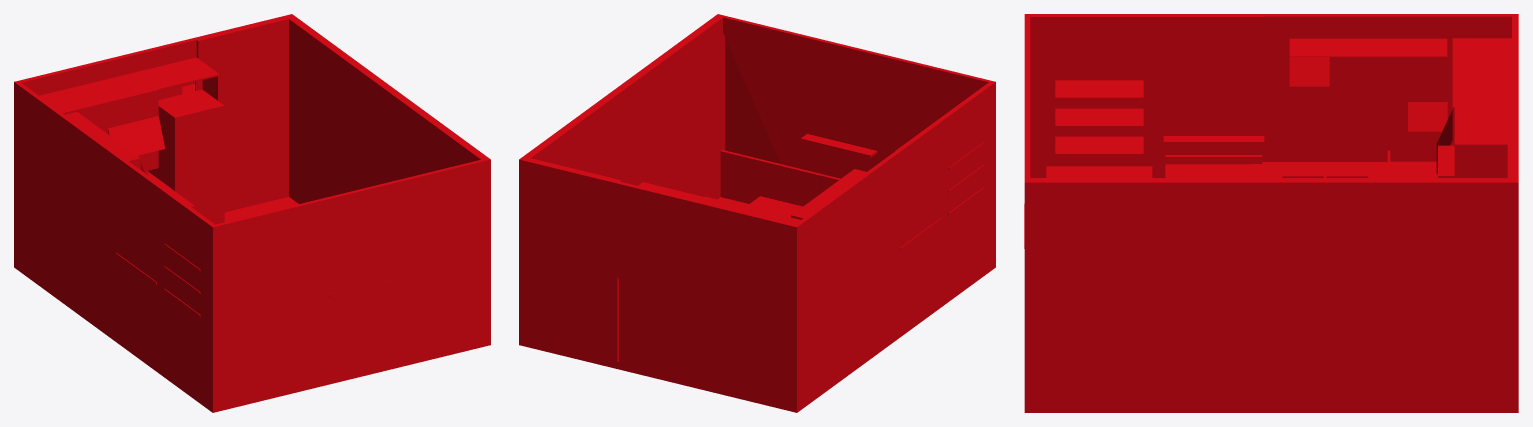
The model's file is ENV_Kitchen_01_COLLISION.fbx.
The picture shows the model from 3 angles, left to right: view 1: azimuth 30°, elevation 25°; view 2: azimuth 150°, elevation 25°; view 3: azimuth 270°, elevation 25°; orthographic projection. The views are drawn at different scales.
Visible parts, largest first — view 1: vertical_col.080, vertical_col.017, vertical_col.015, vertical_col.016, vertical_col.013, vertical_col.039, col.012, vertical_col.021, col.022, col.008, col.018, vertical_col.024 (+9 smaller); view 2: vertical_col.080, vertical_col.021, vertical_col.013, vertical_col.017, vertical_col.015, col.012, col.018, vertical_col.016, vertical_col.039, col.056, vertical_col.034, col.010 (+7 smaller); view 3: vertical_col.016, col.012, vertical_col.017, vertical_col.015, vertical_col.064, col.022, col.070, col.007, col.048, col.020, vertical_col.019, col.050 (+14 smaller).
Boxes of the visible parts, x1,y1,x2,y2 form: vertical_col.080: [210, 158, 490, 409]; vertical_col.017: [116, 156, 217, 403]; vertical_col.015: [14, 81, 120, 334]; vertical_col.016: [285, 14, 394, 203]; vertical_col.013: [194, 16, 288, 212]; vertical_col.039: [148, 84, 224, 224]; col.012: [387, 89, 490, 338]; vertical_col.021: [14, 52, 145, 268]; col.022: [39, 72, 158, 113]; col.008: [87, 313, 350, 412]; col.018: [14, 171, 172, 281]; vertical_col.024: [63, 90, 158, 129]; vertical_col.080: [716, 14, 995, 260]; vertical_col.021: [668, 196, 799, 411]; vertical_col.013: [526, 158, 621, 368]; vertical_col.017: [895, 81, 995, 329]; vertical_col.015: [792, 151, 899, 412]; col.012: [622, 15, 725, 199]; col.018: [668, 316, 827, 412]; vertical_col.016: [519, 84, 629, 346]; vertical_col.039: [619, 227, 668, 379]; col.056: [720, 150, 840, 206]; vertical_col.034: [617, 181, 685, 242]; col.010: [659, 352, 869, 412]; vertical_col.016: [1263, 178, 1518, 412]; col.012: [1024, 178, 1263, 412]; vertical_col.017: [1024, 14, 1263, 177]; vertical_col.015: [1263, 14, 1518, 161]; vertical_col.064: [1328, 58, 1407, 127]; col.022: [1452, 39, 1511, 109]; col.070: [1289, 39, 1447, 58]; col.007: [1024, 403, 1263, 412]; col.048: [1165, 155, 1262, 177]; col.020: [1454, 107, 1511, 146]; vertical_col.019: [1454, 143, 1507, 177]; col.050: [1055, 136, 1143, 155].
Bounding box in the file's own units: 16750 × 10650 × 20693.
